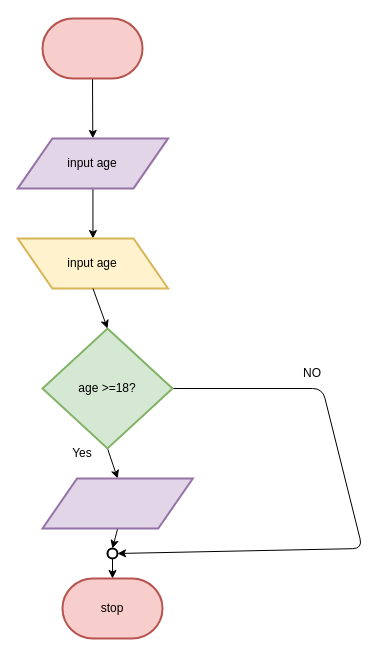
This 389x656 diagram has some shape labels left out. The shapes that lost their labels are listed below. From the top down, each one's centre as x and y in pixels, then its label:
point (92, 48): Start
point (117, 503): "You not a boy
